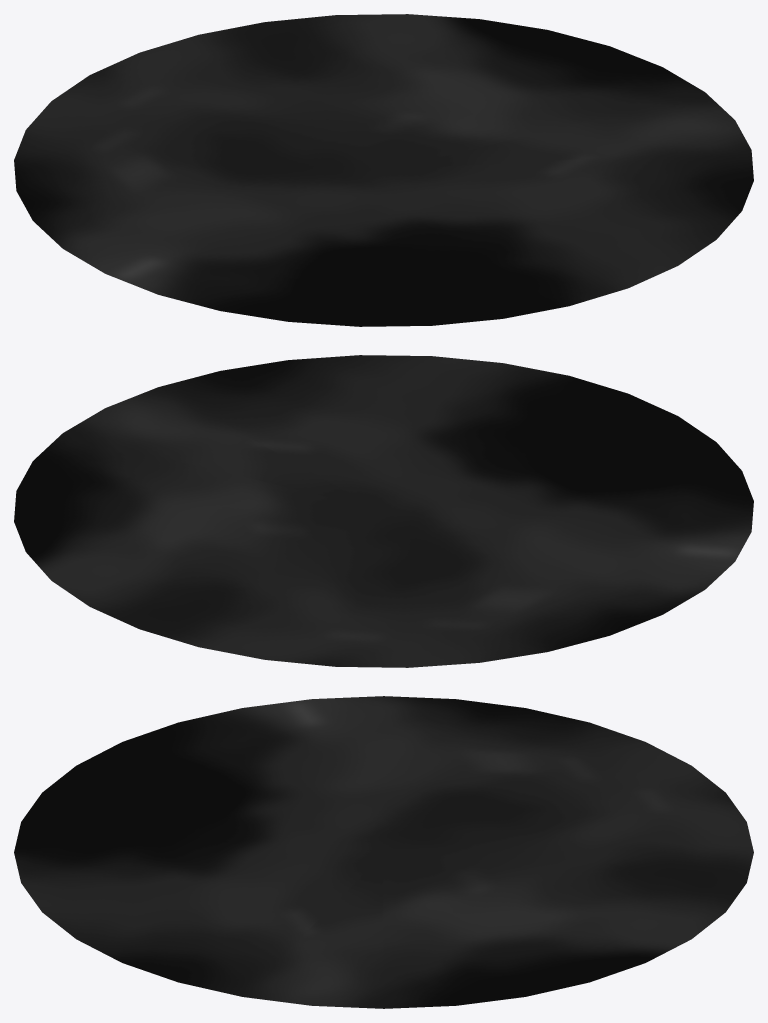
File: Oil Fill.fbx
3 views of the same model, one above another, from view 1: azimuth 30°, elevation 25°; view 2: azimuth 150°, elevation 25°; view 3: azimuth 270°, elevation 25° (orthographic).
Parts seen in each view (by area): view 1: Cylinder.006; view 2: Cylinder.006; view 3: Cylinder.006.
Boxes of the visible parts, x1,y1,x2,y2 form: Cylinder.006: (14, 14, 753, 326); Cylinder.006: (14, 355, 753, 667); Cylinder.006: (14, 696, 753, 1008).
Size of the model in its own units: 41.6 by 0 by 41.6.
